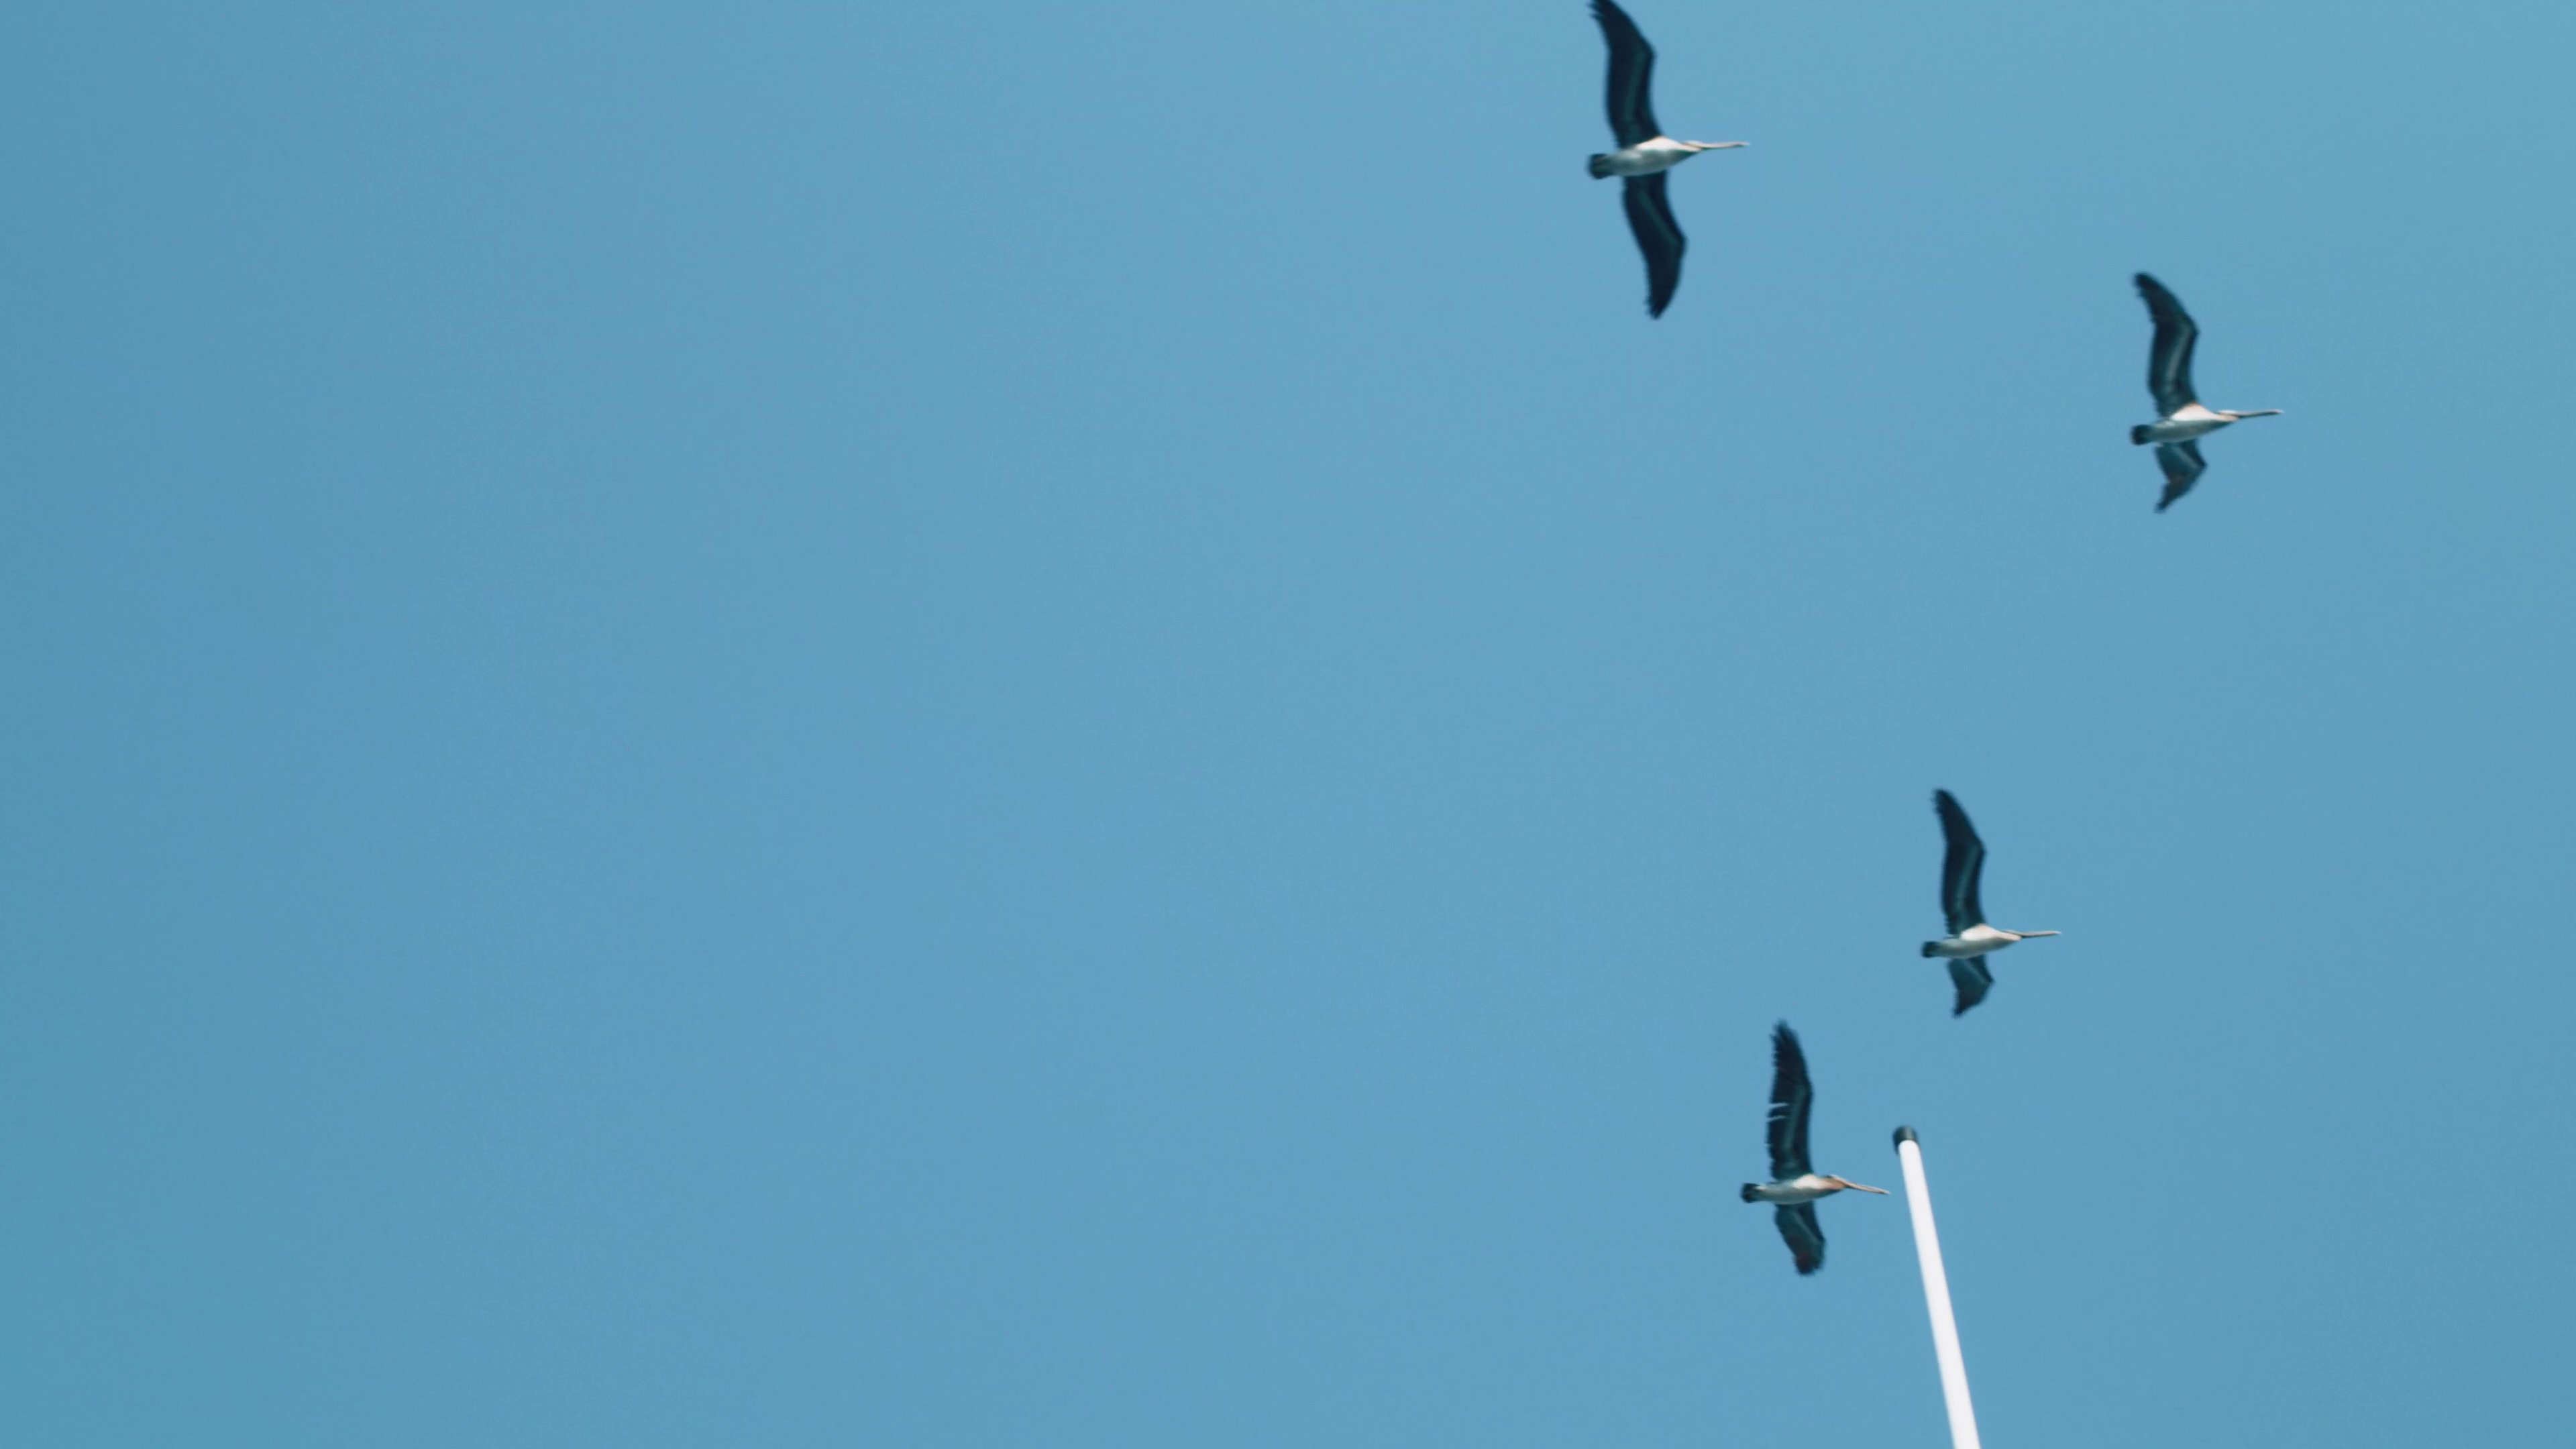bird: (1585, 0, 1748, 317), (2125, 260, 2288, 517), (1741, 1021, 1884, 1277), (1916, 786, 2054, 1019)
